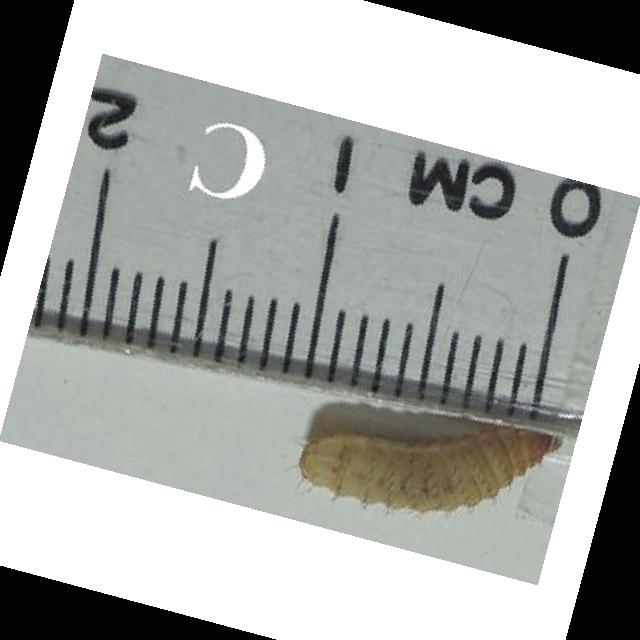Maggot: (299, 425, 565, 509)
